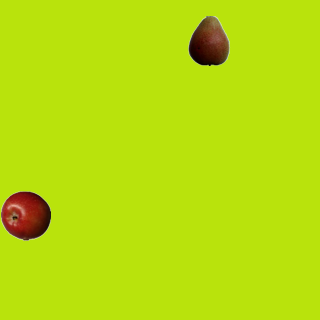Apple Braeburn: (0, 190, 50, 240)
Pear Forelle: (183, 15, 233, 65)
